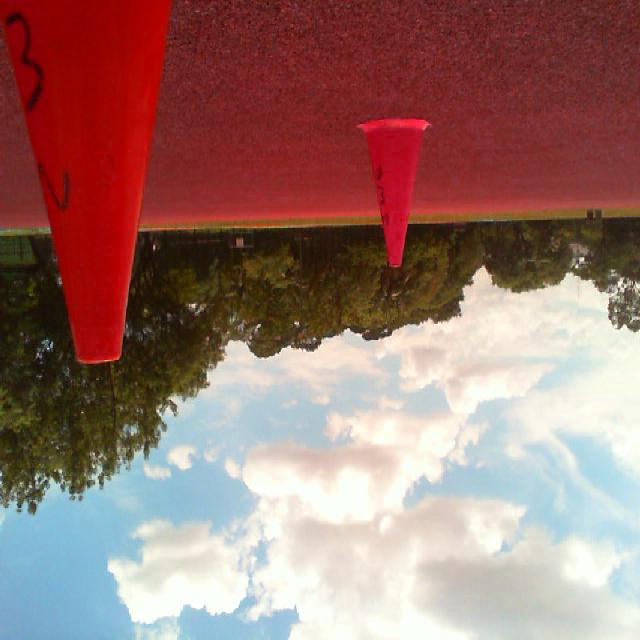cone: (1, 0, 171, 363), (356, 119, 431, 268)
